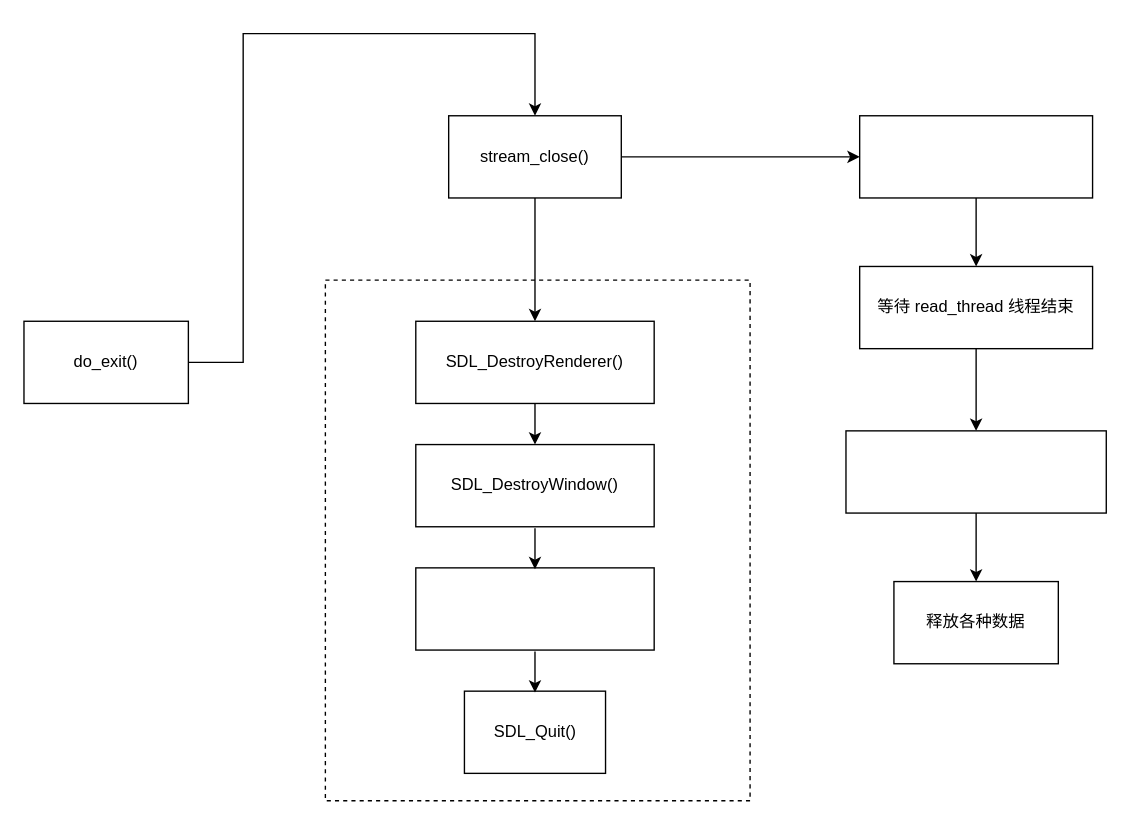
The diagram is 1130 pixels wide and 825 high, and some of its shapes have lost their labels. Each missing label, with the centre of its shape:
avformat_network_deinit(): point 534,608
is->abort_request 置为 1: point 975,156
关闭各个解码线程 stream_component_close(): point 975,471
